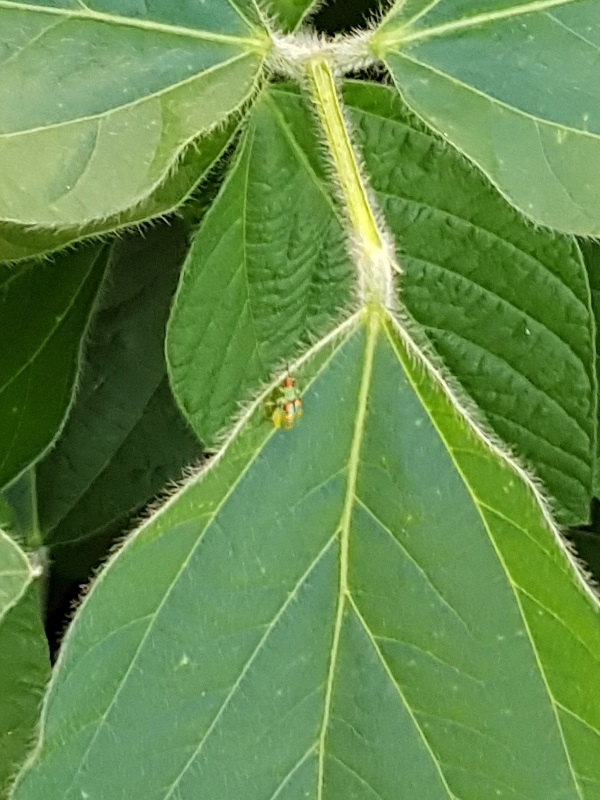Diabrotica_speciosa: (244, 356, 327, 456)
